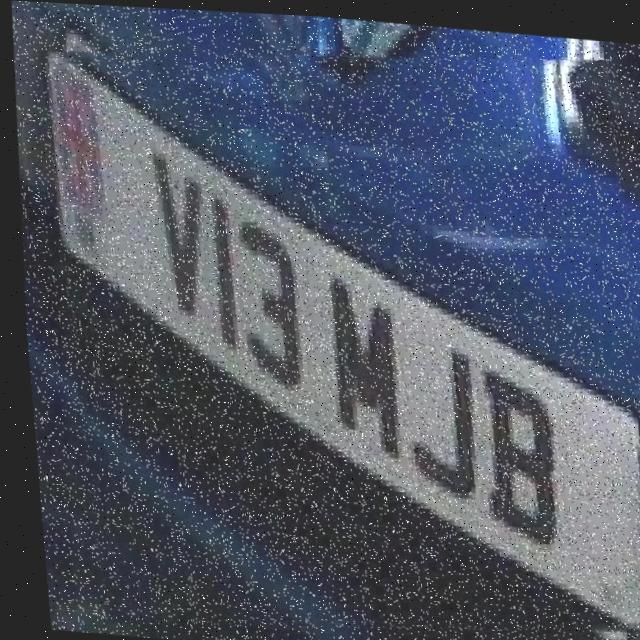LicensePlate: (27, 20, 640, 640)
